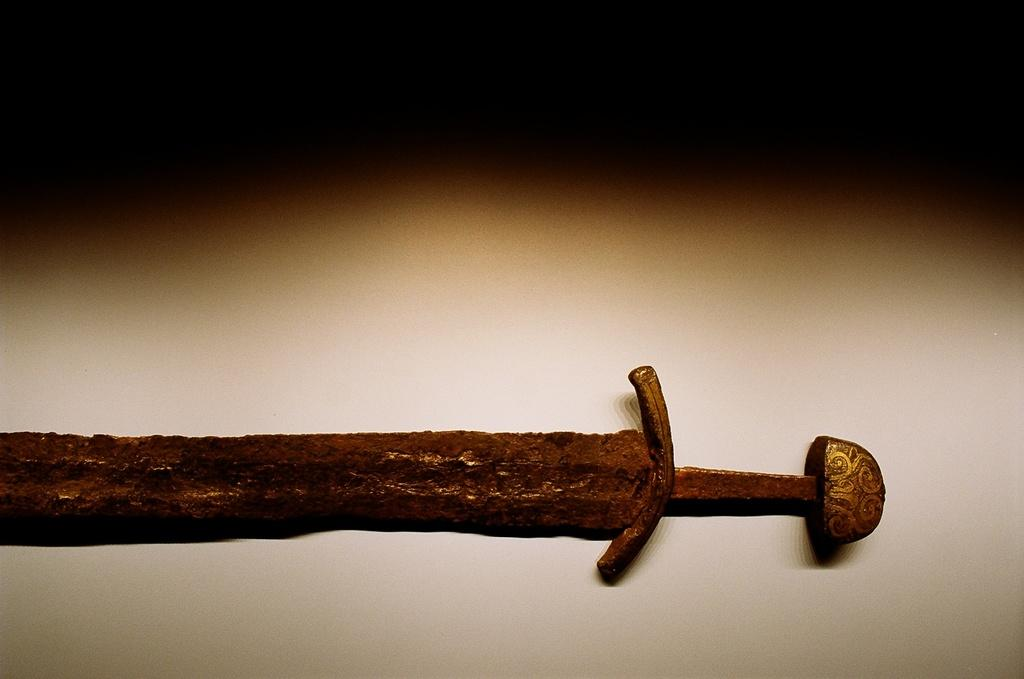Sword: (0, 363, 884, 585)
